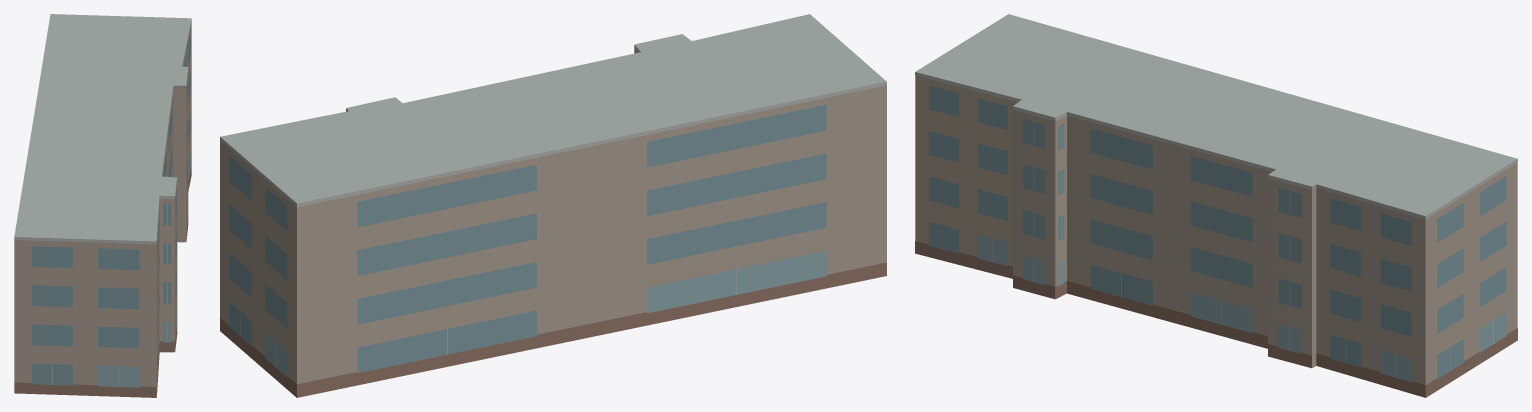
The model's file is survey-upis-32725110.glb.
3 renders of one model, left to right at view 1: azimuth 30°, elevation 25°; view 2: azimuth 150°, elevation 25°; view 3: azimuth 270°, elevation 25°, orthographic. The views are drawn at different scales.
Parts seen in each view (by area): view 1: survey-upis-32725110.tmp; view 2: survey-upis-32725110.tmp; view 3: survey-upis-32725110.tmp.
Boxes of the visible parts, left/top/right/bottom form: survey-upis-32725110.tmp: left=14, top=14, right=191, bottom=397; survey-upis-32725110.tmp: left=220, top=14, right=886, bottom=397; survey-upis-32725110.tmp: left=915, top=14, right=1517, bottom=397.
Bounding box in the file's own units: 29.86 × 12.5 × 37.59.
